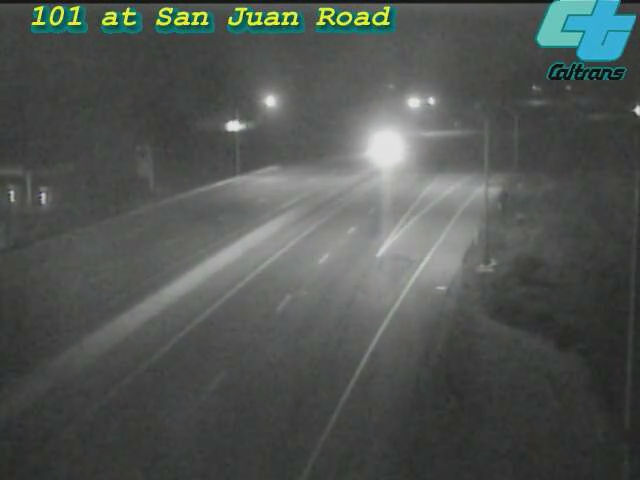vehicle: (356, 123, 406, 173)
